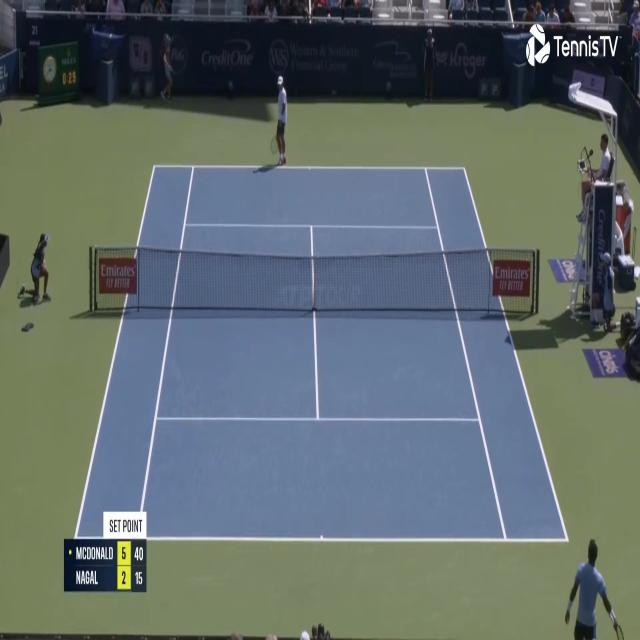tennis-player: (562, 532, 628, 640), (270, 74, 288, 168)
